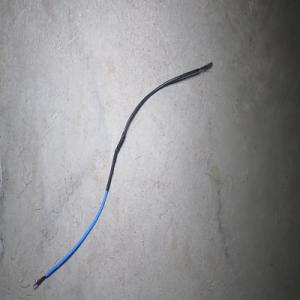Wire: (32, 60, 212, 289)
